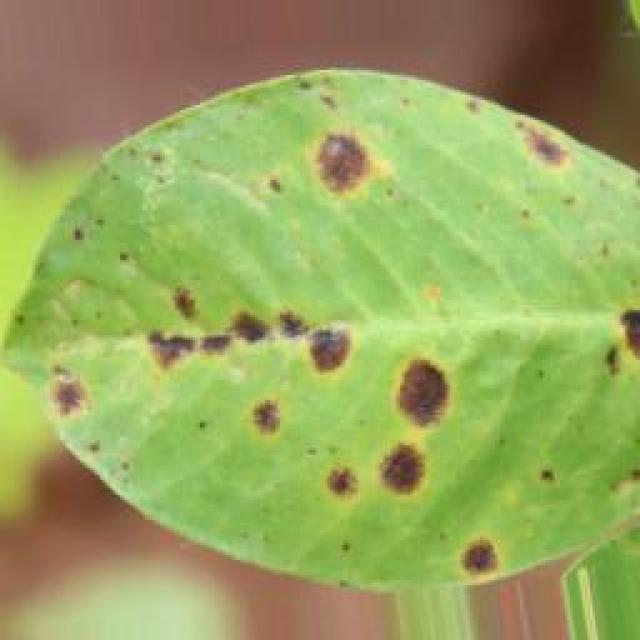Yellowish: (0, 67, 632, 640)
